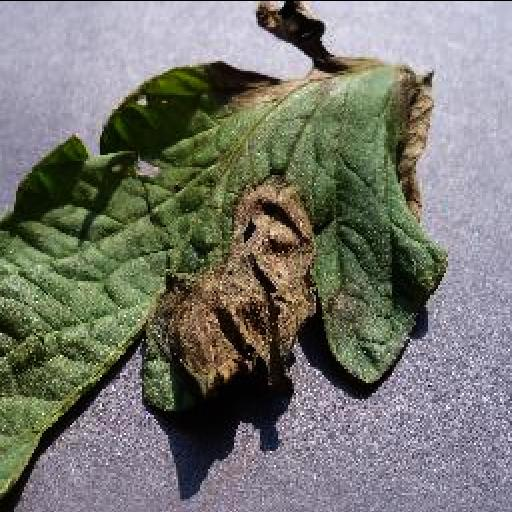disease_tomato: (0, 0, 448, 504)
